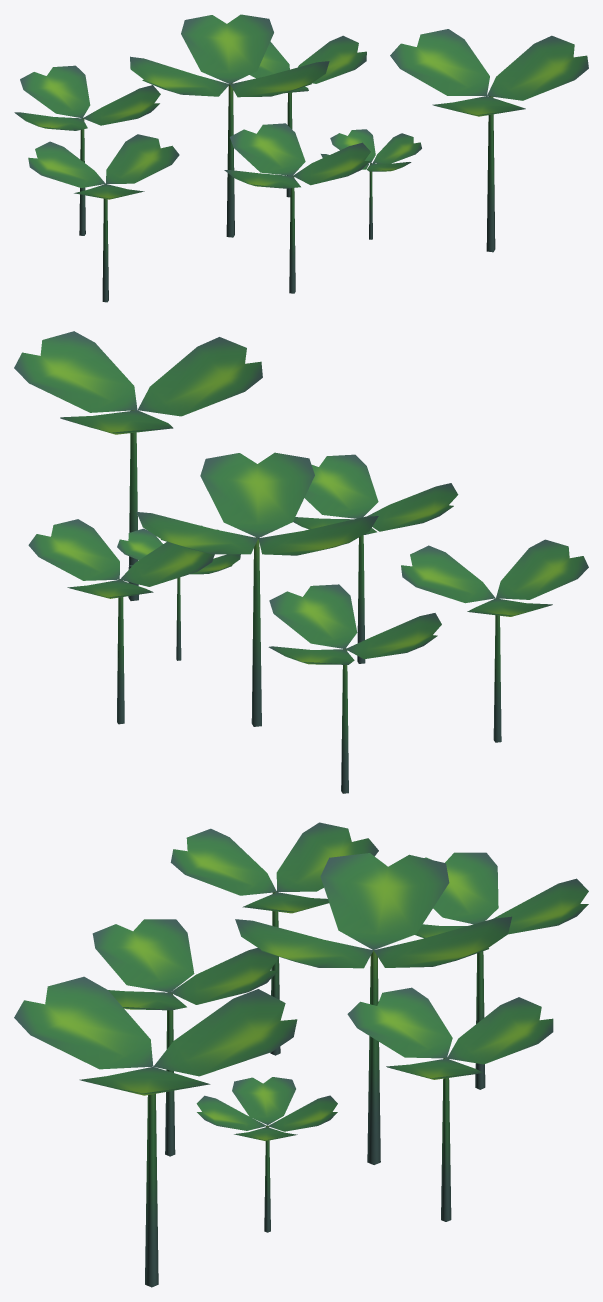
Rendered from plant_25.fbx.
3 renders of one model, top to bottom at view 1: azimuth 30°, elevation 25°; view 2: azimuth 150°, elevation 25°; view 3: azimuth 270°, elevation 25°, orthographic. The views are drawn at different scales.
Parts seen in each view (by area): view 1: plant_25; view 2: plant_25; view 3: plant_25.
Part boxes in pixels (x1,y1,x2,y2): plant_25: [14, 14, 588, 302]; plant_25: [14, 331, 588, 793]; plant_25: [14, 822, 588, 1287].
Bounding box in the file's own units: 2.47 × 0.8811 × 1.81.
